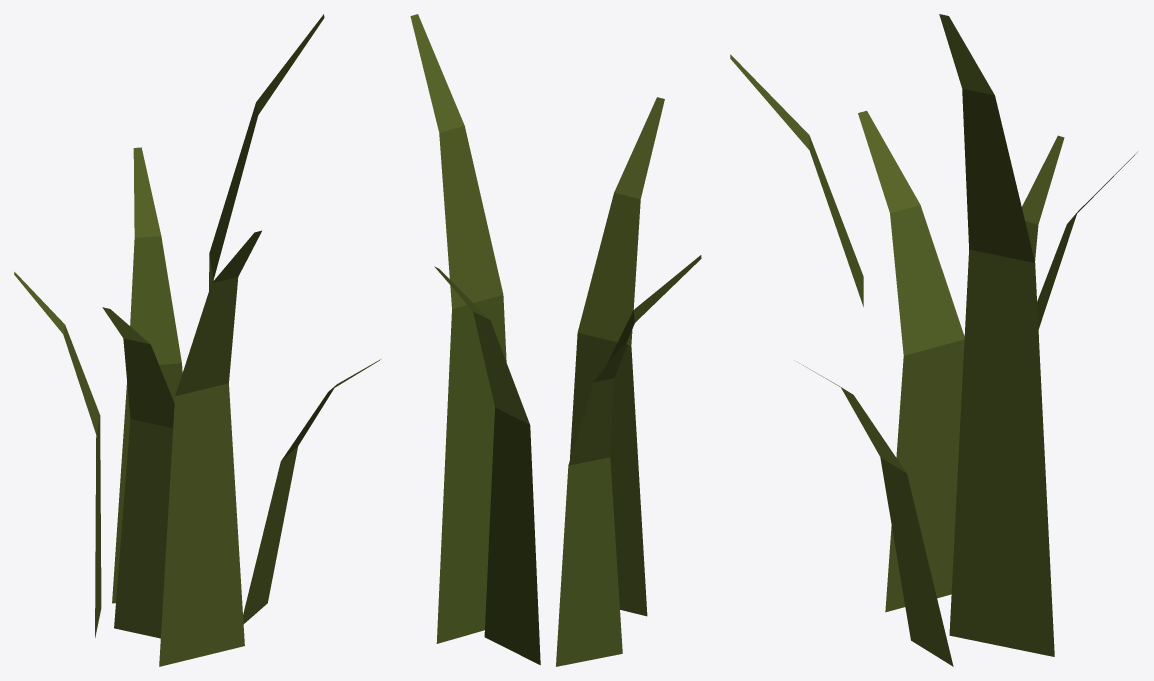
Rendered from grass.glb.
3 renders of one model, left to right at view 1: azimuth 30°, elevation 25°; view 2: azimuth 150°, elevation 25°; view 3: azimuth 270°, elevation 25°, orthographic. The views are drawn at different scales.
Parts seen in each view (by area): view 1: Plane.002; view 2: Plane.002; view 3: Plane.002.
Part boxes in pixels (x1,y1,x2,y2): Plane.002: (14,14,380,666); Plane.002: (410,14,701,666); Plane.002: (730,14,1137,666).
Size of the model in its own units: 0.2921 by 0.6113 by 0.3327.
